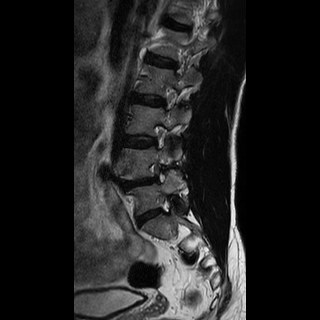RFS0: (148, 118, 172, 155)
RFS1: (143, 157, 172, 187)
